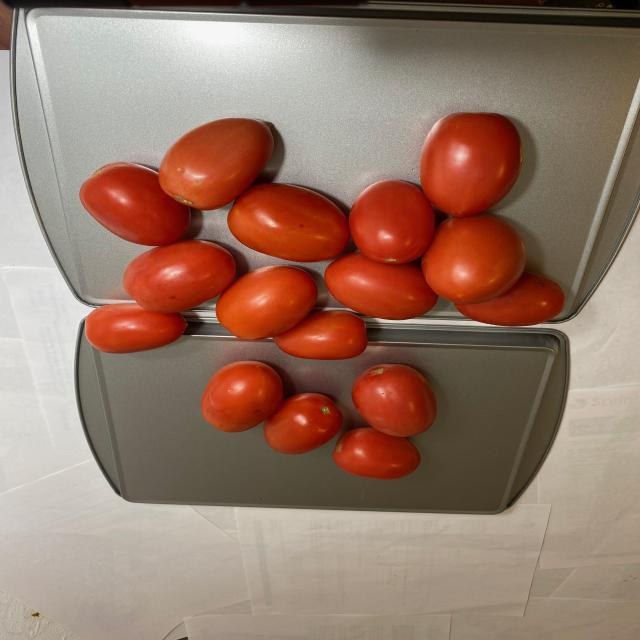tomato: (81, 108, 564, 476)
